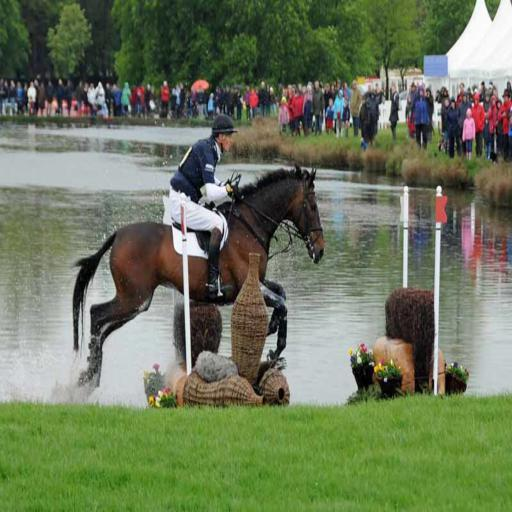Horse: (67, 161, 325, 399)
